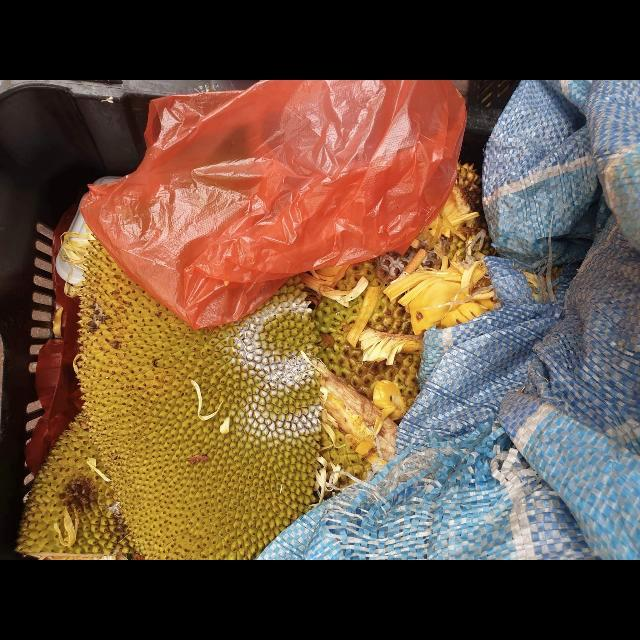plastic_bag: (78, 80, 467, 332)
